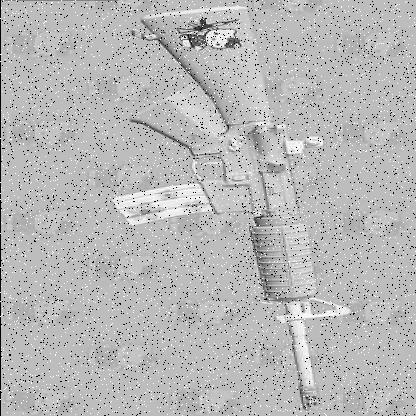rifle: (79, 4, 365, 413)
